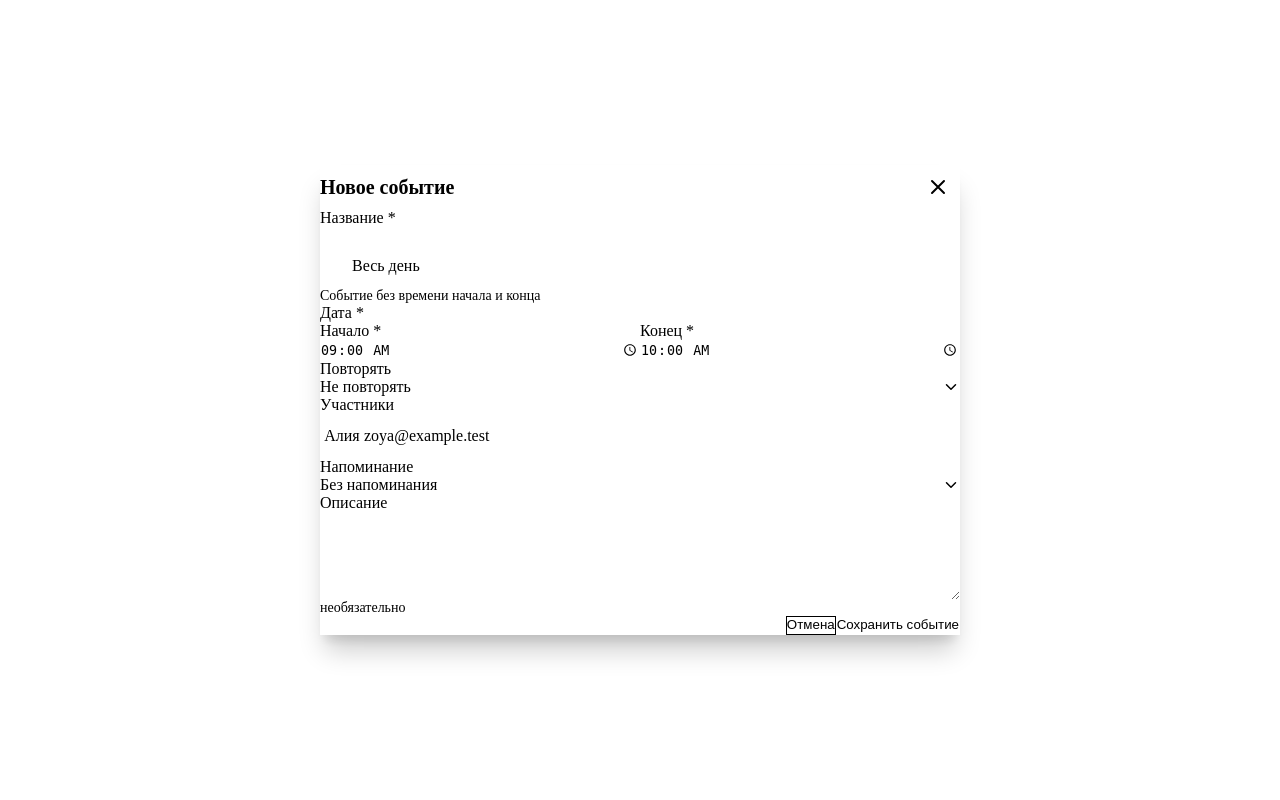
CalendarEventForm › offers family members as participant chips with a check on the chosen ones
Check: the text "Участники" is shown, box x1=320 y1=396 x2=394 y2=414
Check: the button with test id "calendar-event-participant-z" reads "zoya@example.test", box x1=364 y1=414 x2=489 y2=458
Click the button with test id "calendar-event-participant-a".
click(342, 436)  # box x1=320 y1=414 x2=364 y2=458
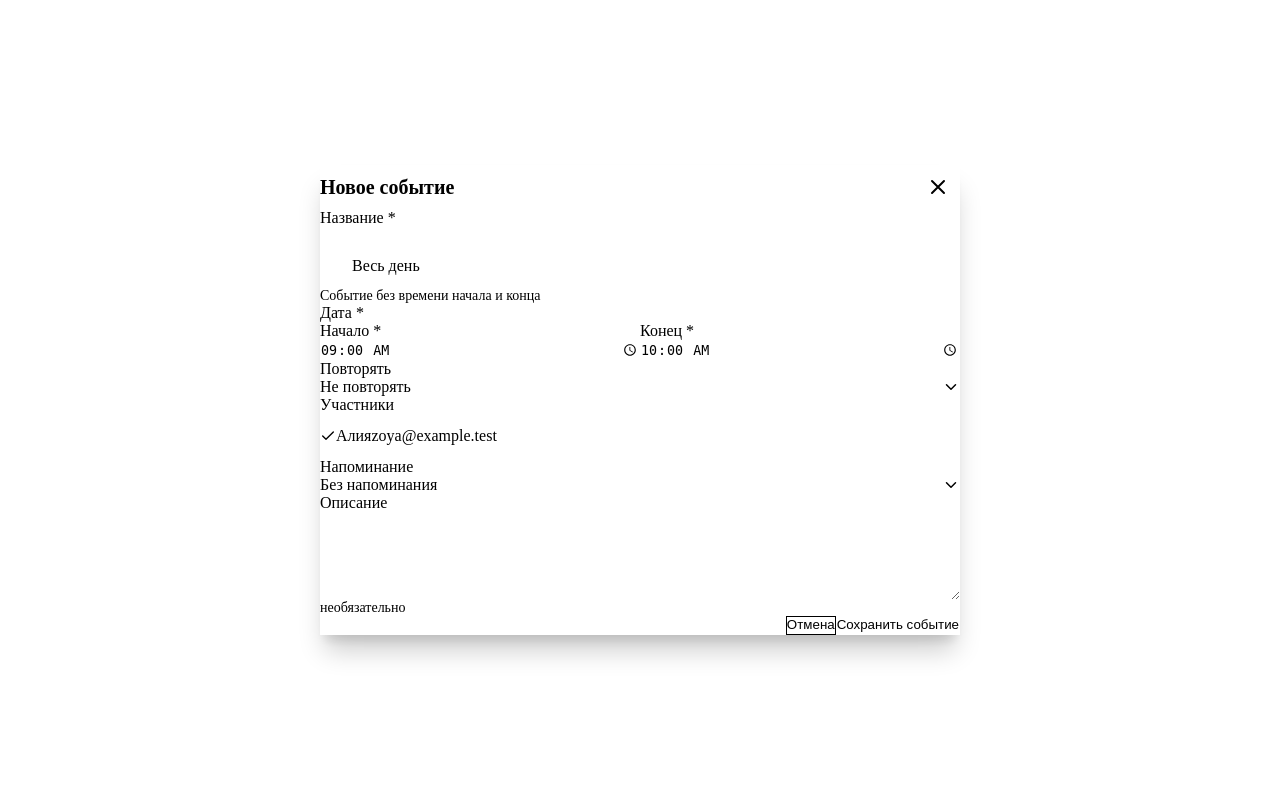
Check: the icon with test id "calendar-event-participant-check" is shown, box x1=320 y1=428 x2=336 y2=444
